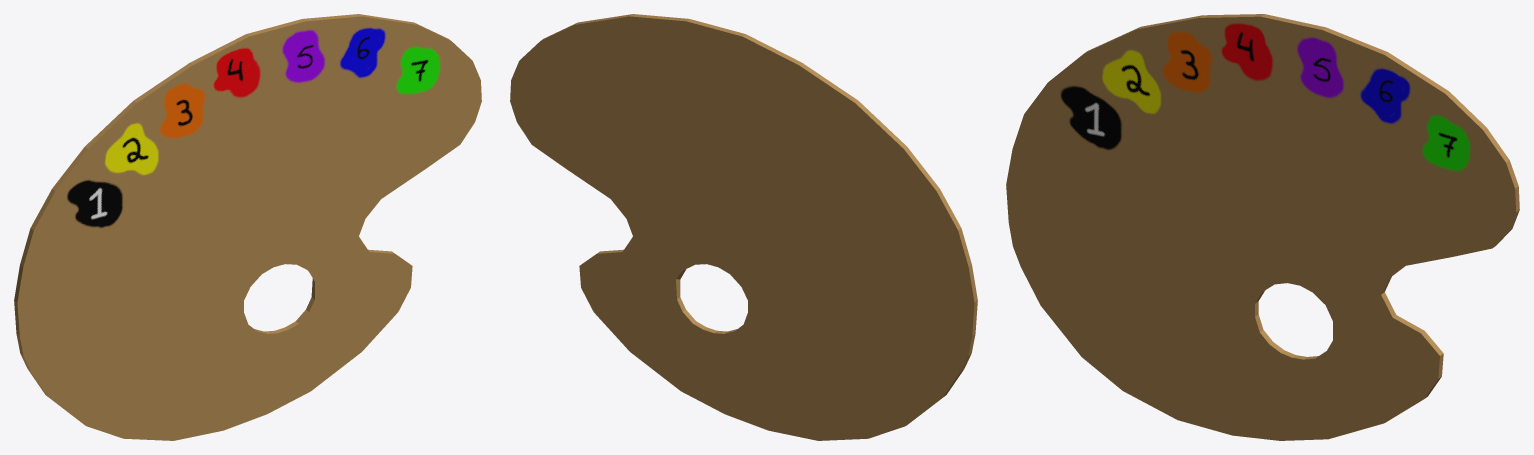
Rendered from paint_palette.glb.
3 views of the same model, side by side, from view 1: azimuth 30°, elevation 25°; view 2: azimuth 150°, elevation 25°; view 3: azimuth 330°, elevation 25° (orthographic). The views are drawn at different scales.
Visible parts, largest first — view 1: Cube; view 2: Cube; view 3: Cube.
Boxes of the visible parts, left/top/right/bottom form: Cube: left=14, top=14, right=481, bottom=440; Cube: left=510, top=14, right=977, bottom=440; Cube: left=1006, top=14, right=1519, bottom=440.
Bounding box in the file's own units: 4.12 × 3.3 × 0.0517.
Materials: 1 (1 with a texture image).
